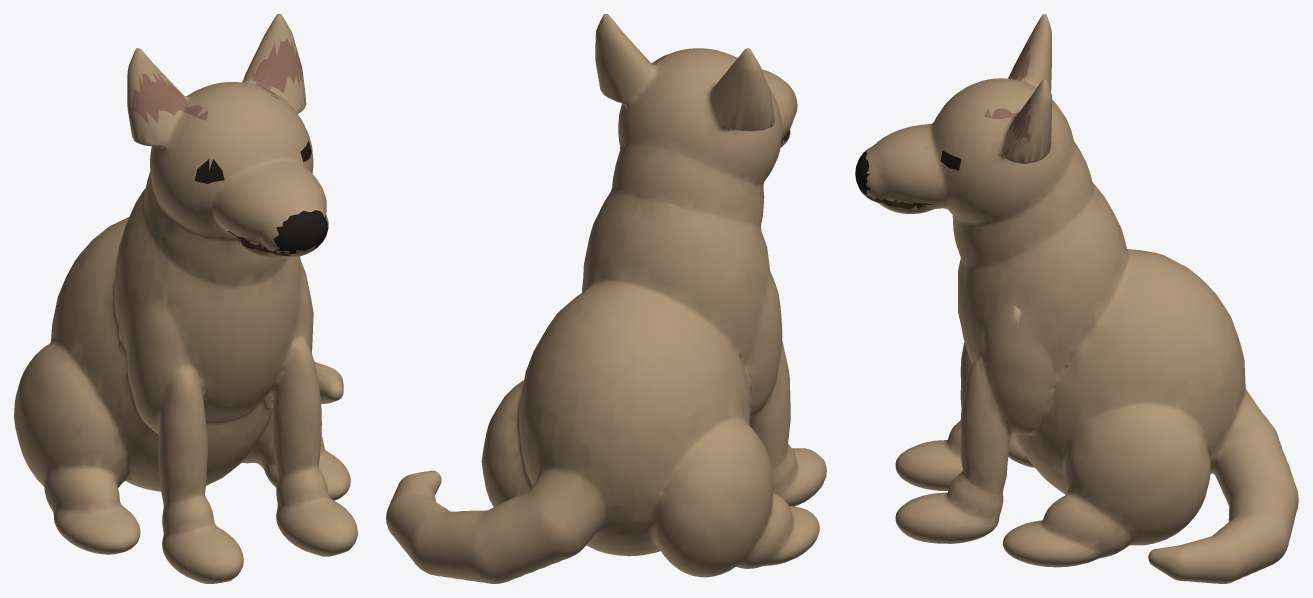
File: A-NEW-20261027-DOG-001_LOD1_R2.glb
3 views of the same model, side by side, from view 1: azimuth 30°, elevation 25°; view 2: azimuth 150°, elevation 25°; view 3: azimuth 270°, elevation 25° (orthographic). The views are drawn at different scales.
Visible parts, largest first — view 1: original seated dog whole continuous skin; view 2: original seated dog whole continuous skin; view 3: original seated dog whole continuous skin.
Part boxes in pixels (<box>): original seated dog whole continuous skin: <box>14,14,357,583</box>; original seated dog whole continuous skin: <box>386,14,826,583</box>; original seated dog whole continuous skin: <box>855,14,1298,583</box>.
Bounding box in the file's own units: 0.7266 × 0.9965 × 0.8595.
